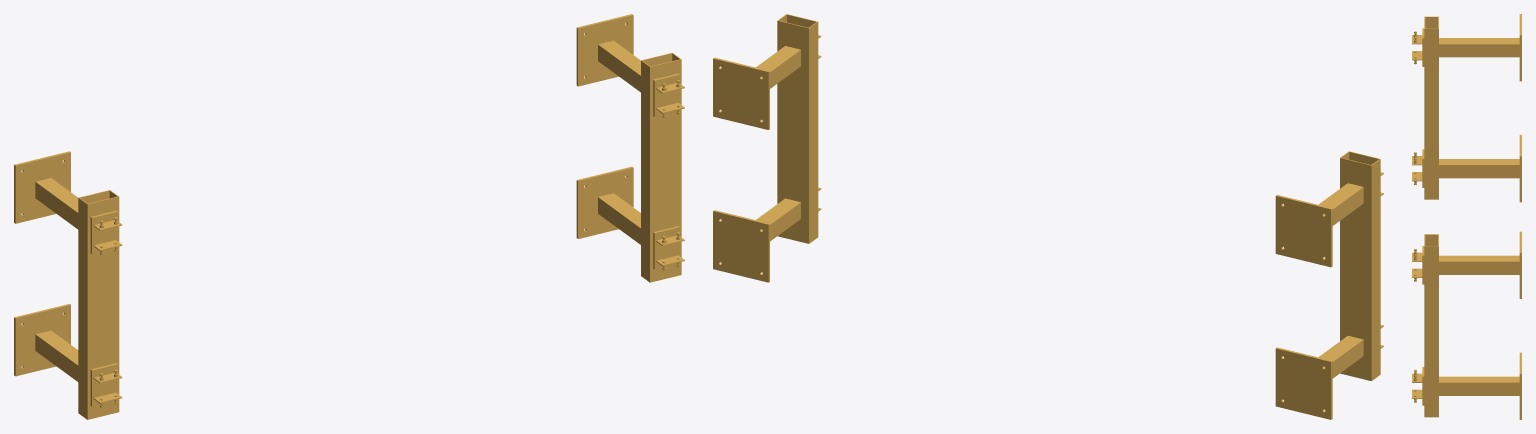
The model's file is chassis_trestles_S01.glb.
3 views of the same model, side by side, from view 1: azimuth 30°, elevation 25°; view 2: azimuth 150°, elevation 25°; view 3: azimuth 270°, elevation 25° (orthographic). The views are drawn at different scales.
Visible parts, largest first — view 1: trestle_1_transverse_box_200x100x6, trestle_2_transverse_box_200x100x6, trestle_2_right_foot_plate, trestle_2_left_foot_plate, trestle_1_left_foot_plate, trestle_1_right_foot_plate, trestle_1_left_post_box_100x100x6, trestle_1_right_post_box_100x100x6, trestle_2_left_post_box_100x100x6, trestle_2_right_post_box_100x100x6, trestle_1_right_rail_bearing_pad, trestle_1_left_rail_bearing_pad (+2 smaller); view 2: trestle_2_transverse_box_200x100x6, trestle_1_transverse_box_200x100x6, trestle_1_left_foot_plate, trestle_1_right_foot_plate, trestle_2_left_foot_plate, trestle_2_right_foot_plate, trestle_1_right_post_box_100x100x6, trestle_1_left_post_box_100x100x6, trestle_2_right_post_box_100x100x6, trestle_2_left_post_box_100x100x6; view 3: trestle_1_transverse_box_200x100x6, trestle_2_transverse_box_200x100x6, trestle_1_left_post_box_100x100x6, trestle_1_right_post_box_100x100x6, trestle_2_left_post_box_100x100x6, trestle_2_right_post_box_100x100x6, trestle_1_left_foot_plate, trestle_1_right_foot_plate, trestle_2_left_foot_plate, trestle_2_right_foot_plate.
Part boxes in pixels (box(x1,y1,x2,y2)): trestle_1_transverse_box_200x100x6: box(78, 190, 119, 419); trestle_2_transverse_box_200x100x6: box(641, 53, 681, 282); trestle_2_right_foot_plate: box(576, 166, 633, 238); trestle_2_left_foot_plate: box(576, 14, 633, 86); trestle_1_left_foot_plate: box(14, 151, 70, 223); trestle_1_right_foot_plate: box(14, 304, 70, 376); trestle_1_left_post_box_100x100x6: box(35, 178, 78, 229); trestle_1_right_post_box_100x100x6: box(35, 330, 78, 381); trestle_2_left_post_box_100x100x6: box(598, 40, 640, 92); trestle_2_right_post_box_100x100x6: box(598, 193, 640, 244); trestle_1_right_rail_bearing_pad: box(90, 363, 117, 406); trestle_1_left_rail_bearing_pad: box(90, 211, 117, 254); trestle_2_transverse_box_200x100x6: box(777, 14, 818, 243); trestle_1_transverse_box_200x100x6: box(1340, 151, 1380, 380); trestle_1_left_foot_plate: box(1275, 195, 1332, 267); trestle_1_right_foot_plate: box(1275, 347, 1332, 419); trestle_2_left_foot_plate: box(713, 57, 769, 129); trestle_2_right_foot_plate: box(713, 210, 769, 282); trestle_1_right_post_box_100x100x6: box(1318, 336, 1363, 378); trestle_1_left_post_box_100x100x6: box(1318, 183, 1363, 225); trestle_2_right_post_box_100x100x6: box(756, 198, 800, 241); trestle_2_left_post_box_100x100x6: box(756, 46, 800, 88); trestle_1_transverse_box_200x100x6: box(1424, 16, 1438, 199); trestle_2_transverse_box_200x100x6: box(1424, 234, 1438, 417); trestle_1_left_post_box_100x100x6: box(1439, 38, 1519, 57); trestle_1_right_post_box_100x100x6: box(1439, 159, 1519, 178); trestle_2_left_post_box_100x100x6: box(1439, 255, 1519, 274); trestle_2_right_post_box_100x100x6: box(1439, 376, 1519, 395); trestle_1_left_foot_plate: box(1519, 14, 1521, 81); trestle_1_right_foot_plate: box(1519, 135, 1521, 202); trestle_2_left_foot_plate: box(1519, 231, 1521, 298); trestle_2_right_foot_plate: box(1519, 352, 1521, 419).
Size of the model in its own units: 3.9 by 1.3 by 0.7582.
